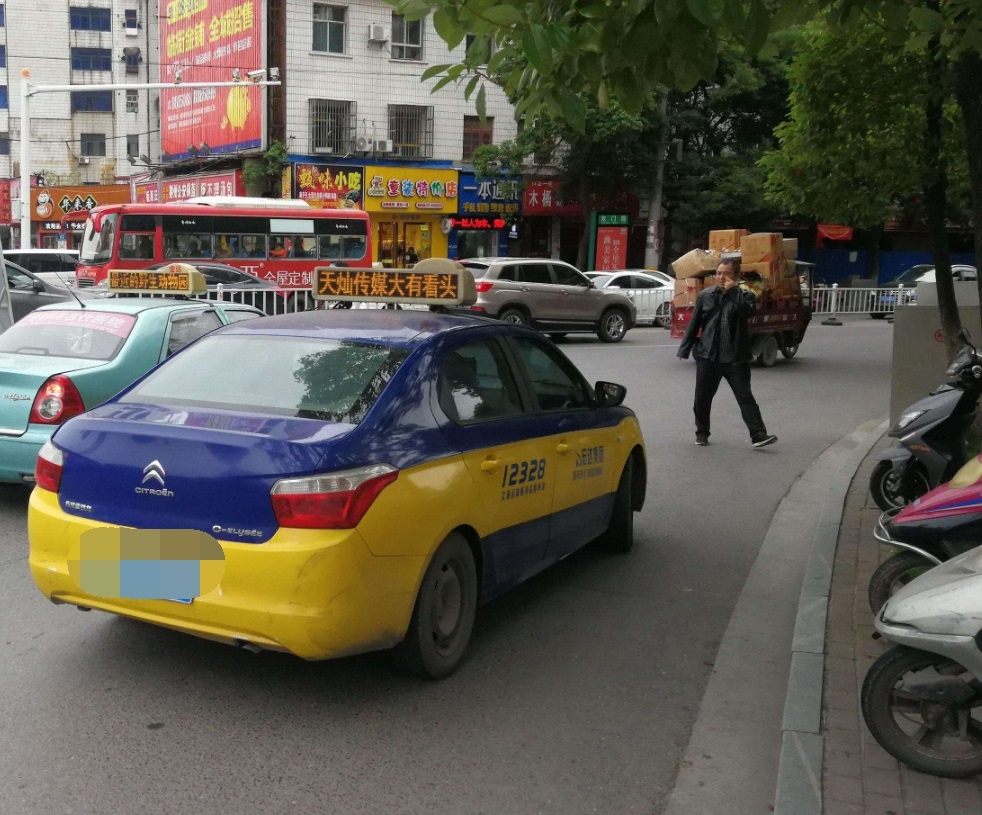taxi: (42, 263, 646, 679)
